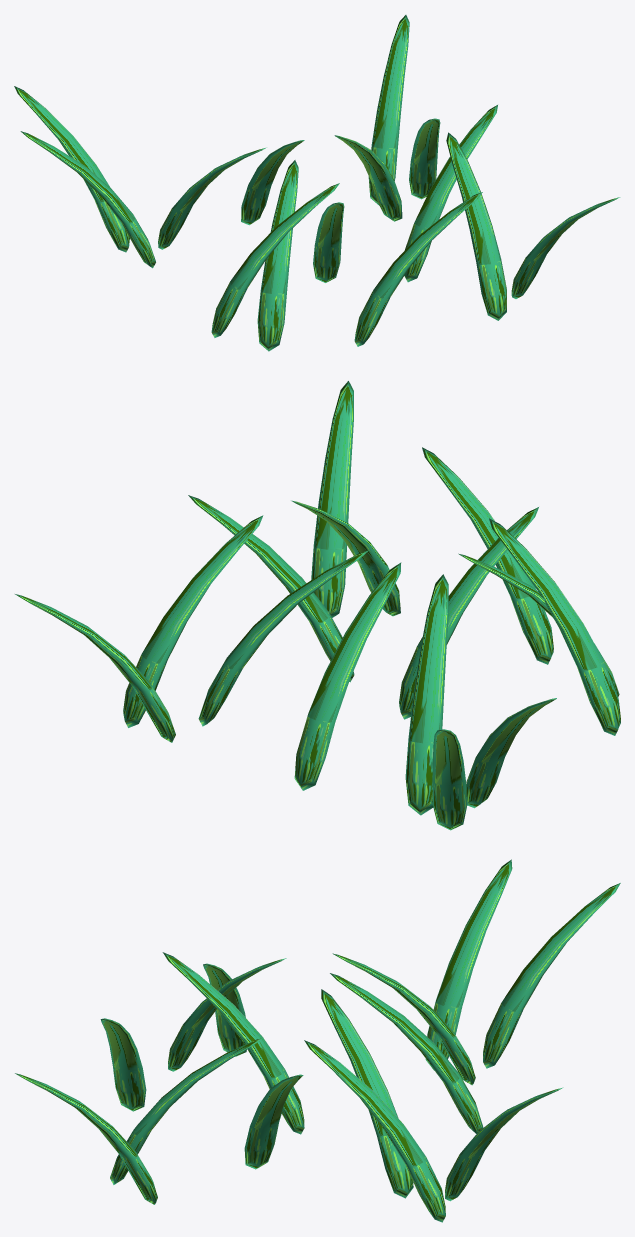
Rendered from Grass.obj.
3 renders of one model, top to bottom at view 1: azimuth 30°, elevation 25°; view 2: azimuth 150°, elevation 25°; view 3: azimuth 270°, elevation 25°, orthographic. The views are drawn at different scales.
Parts seen in each view (by area): view 1: Box004, Box005, Box017, Box019, Box007, Box018, Box003, Box014, Box011, Box023, Box022, Box024 (+2 smaller); view 2: Box009, Box022, Box021, Box007, Box023, Box019, Box024, Box018, Box003, Box011, Box014, Box017 (+2 smaller); view 3: Box014, Box003, Box023, Box024, Box011, Box022, Box019, Box018, Box004, Box009, Box021, Box017 (+2 smaller).
Boxes of the visible parts, x1,y1,x2,y2 form: Box004: [446, 132, 506, 320]; Box005: [257, 160, 298, 351]; Box017: [368, 15, 409, 205]; Box019: [354, 192, 482, 346]; Box007: [211, 183, 339, 337]; Box018: [404, 105, 497, 282]; Box003: [14, 86, 129, 252]; Box014: [20, 131, 155, 268]; Box011: [313, 202, 344, 282]; Box023: [409, 118, 440, 199]; Box022: [241, 140, 304, 225]; Box024: [334, 135, 402, 221]; Box009: [405, 574, 448, 815]; Box022: [294, 562, 401, 790]; Box021: [311, 381, 353, 617]; Box007: [489, 518, 620, 735]; Box023: [123, 515, 263, 727]; Box019: [422, 447, 553, 664]; Box024: [198, 550, 368, 726]; Box018: [188, 495, 354, 682]; Box003: [432, 729, 467, 830]; Box011: [399, 507, 538, 719]; Box014: [466, 698, 556, 808]; Box017: [15, 594, 175, 742]; Box014: [425, 859, 512, 1070]; Box003: [483, 883, 620, 1068]; Box023: [304, 1040, 445, 1222]; Box024: [321, 989, 413, 1198]; Box011: [162, 952, 304, 1134]; Box022: [330, 973, 483, 1133]; Box019: [100, 1018, 146, 1111]; Box018: [244, 1074, 303, 1169]; Box004: [110, 1038, 262, 1184]; Box009: [332, 953, 475, 1085]; Box021: [15, 1073, 157, 1204]; Box017: [445, 1087, 563, 1201].
Size of the model in its own units: 15.41 by 4.93 by 17.33.
